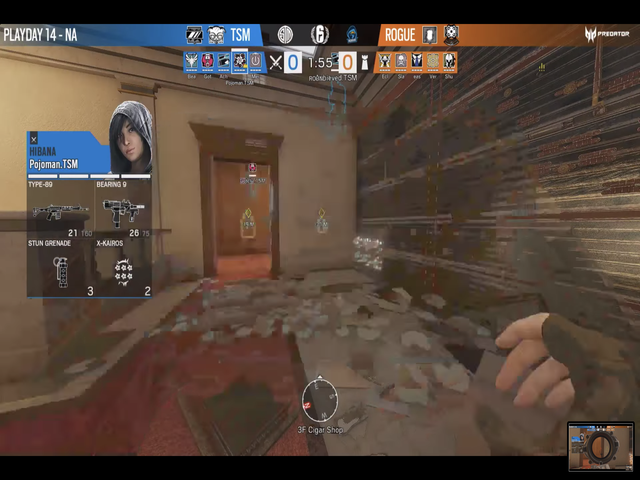0_blue: (283, 53, 301, 74)
